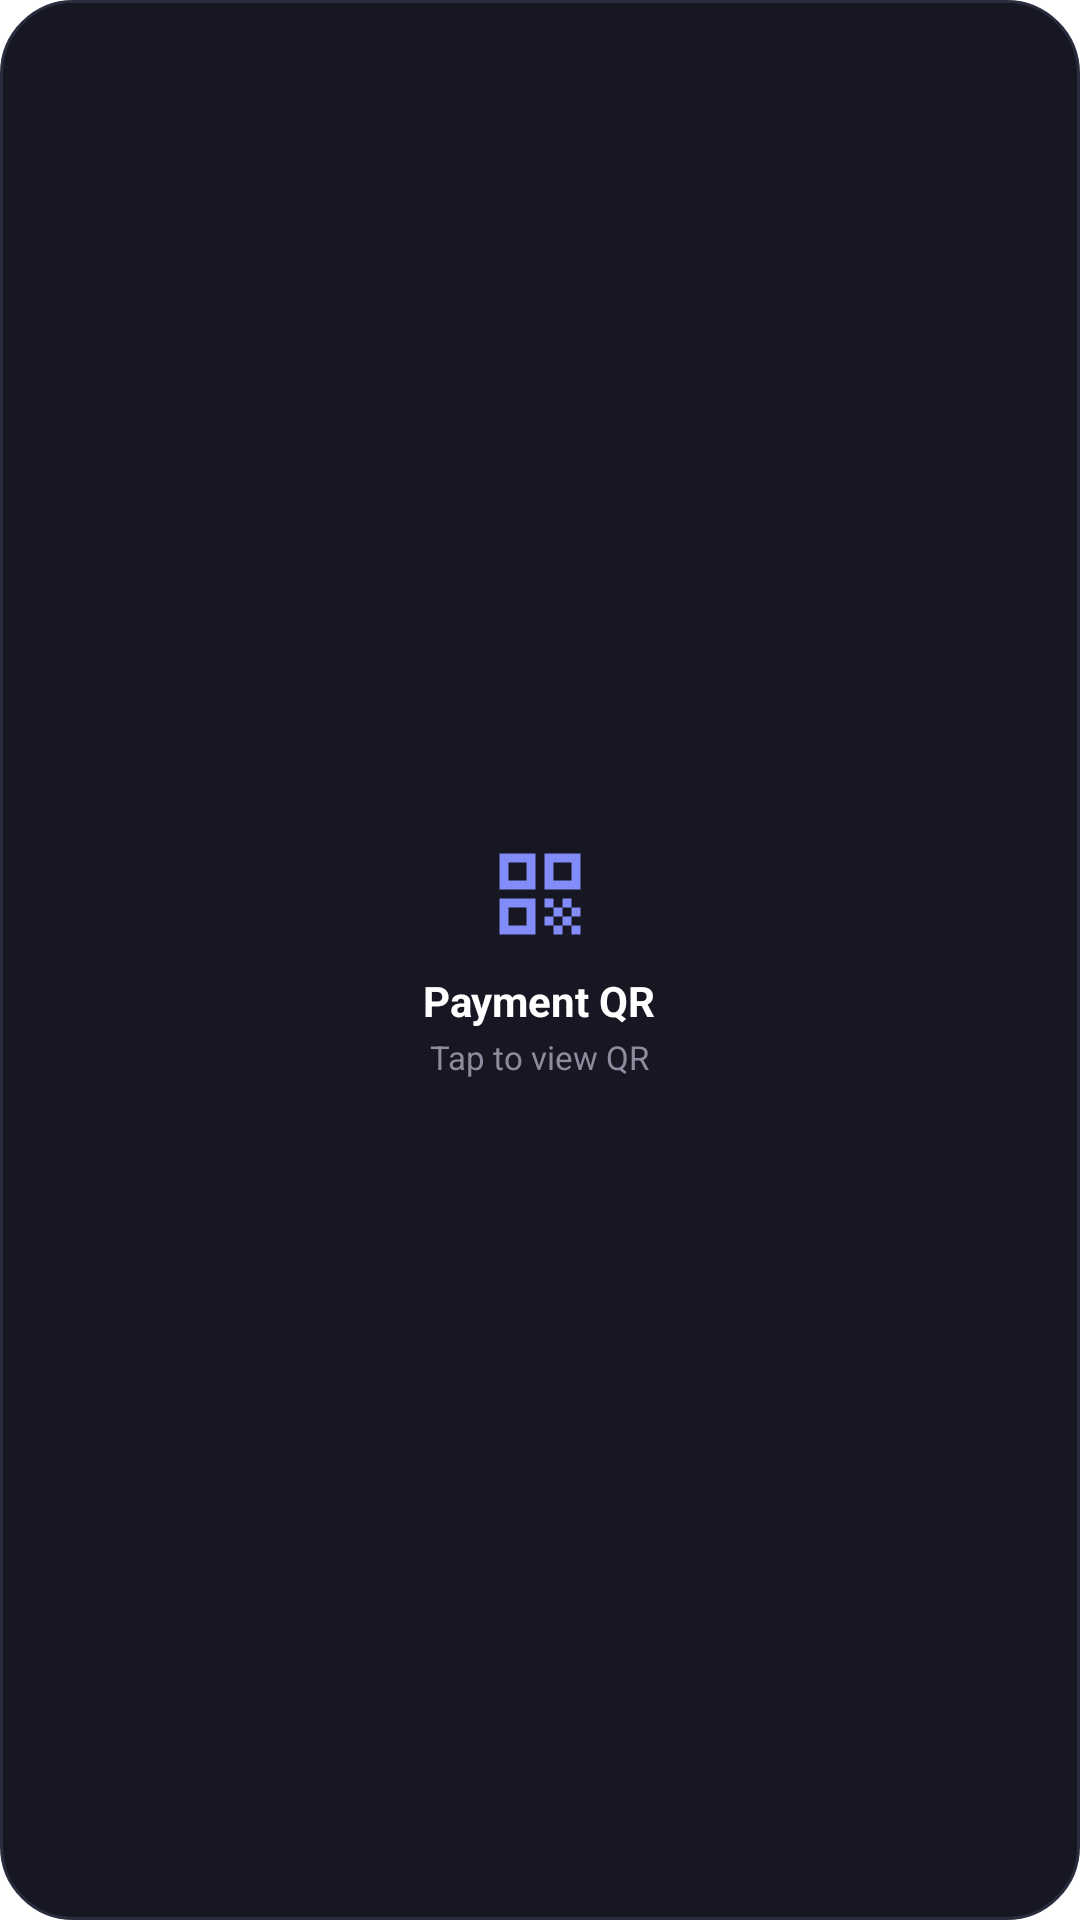

Screen size 1080 × 1920. Icon name, then its box in pixels as [left=x1, top=y1, right=x2, bottom=y2]:
widget qr: [left=499, top=853, right=581, bottom=935]
